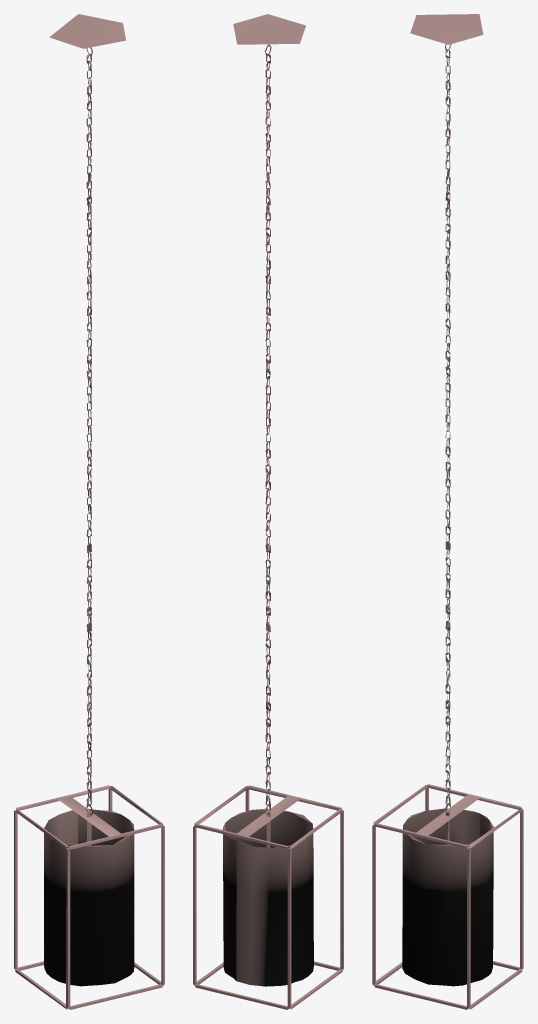
Rendered from LightTop0015.obj.
The picture shows the model from 3 angles, left to right: view 1: azimuth 30°, elevation 25°; view 2: azimuth 150°, elevation 25°; view 3: azimuth 330°, elevation 25°; orthographic projection.
Size of the model in its own units: 0.125 by 1.16 by 0.12.
1 material, 1 textured.
